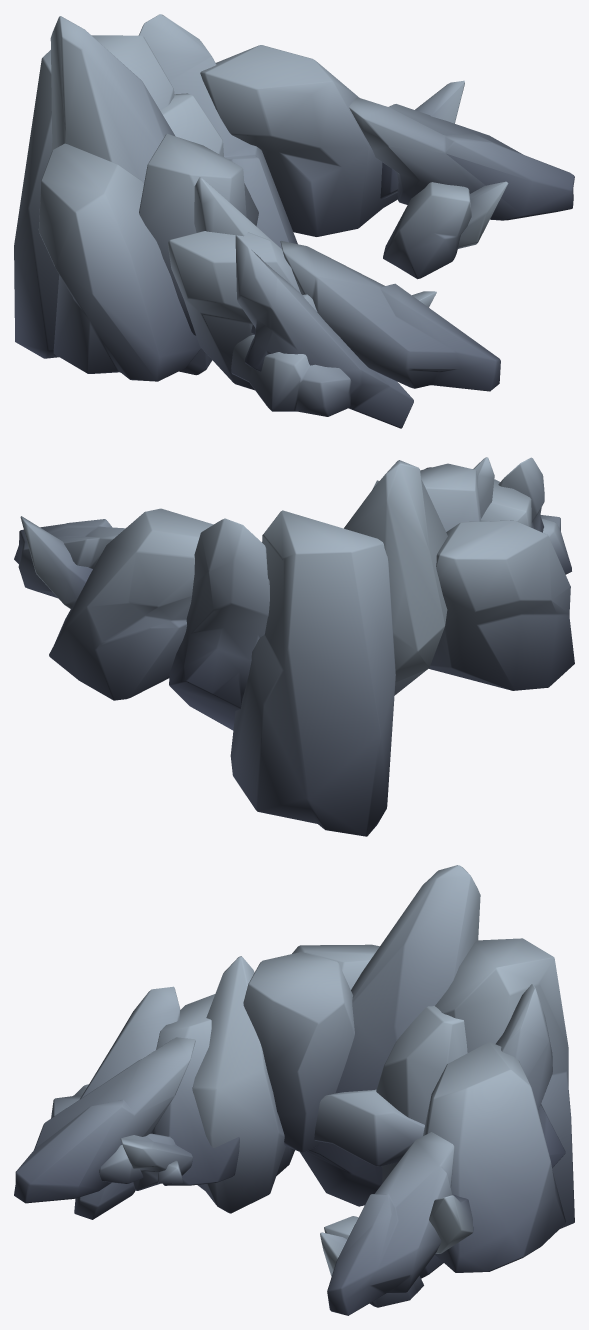
File: CaveDire.fbx
3 views of the same model, one above another, from view 1: azimuth 30°, elevation 25°; view 2: azimuth 150°, elevation 25°; view 3: azimuth 270°, elevation 25° (orthographic). The views are drawn at different scales.
Visible parts, largest first — view 1: CaveDire_high.011; view 2: CaveDire_high.011; view 3: CaveDire_high.011.
Part boxes in pixels (left/top/right/bottom): CaveDire_high.011: left=14, top=14, right=574, bottom=428; CaveDire_high.011: left=14, top=457, right=574, bottom=836; CaveDire_high.011: left=14, top=865, right=574, bottom=1315.
Size of the model in its own units: 1346 by 875 by 1284.
